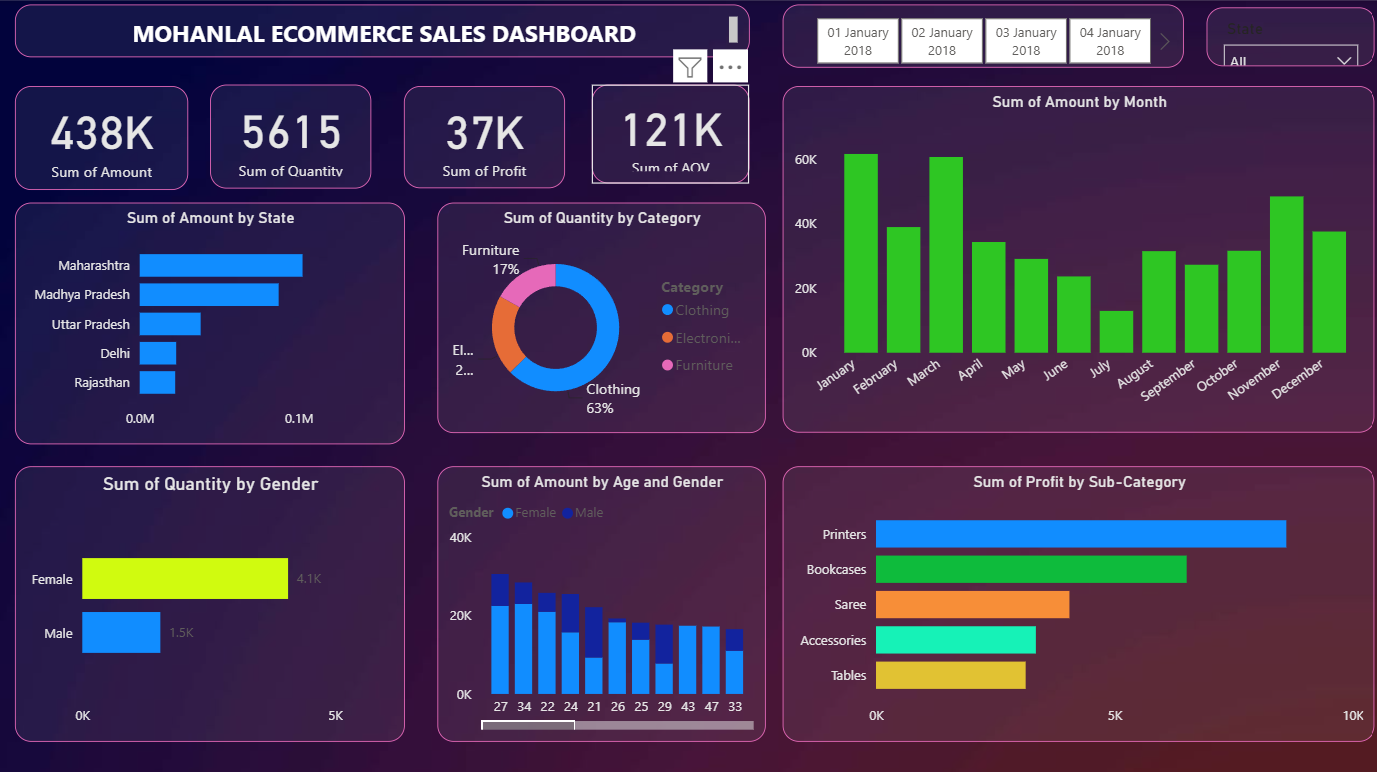

Layout of this report page (visuals, bound fields, positions):
{"tool":"powerbi","page":{"name":"Page 1","canvas":[1280,720],"ordinal":0},"visuals":[{"type":"textbox","box":[15.7,4.3,678.6,48.6],"z":0},{"type":"columnChart","fields":{"Y":["Sum(Details.Amount)"],"Category":["Orders.Order Date.Variation.Date Hierarchy.Month1"]},"box":[724.3,80,547.1,320],"z":1000},{"type":"barChart","fields":{"Category":["Details.Sub-Category"],"Y":["Sum(Details.Profit)"]},"box":[724.3,430,547.1,254.3],"z":2000},{"type":"donutChart","fields":{"Category":["Details.Category"],"Y":["Sum(Details.Quantity)"]},"box":[405.7,187.1,302.9,212.9],"z":3000},{"type":"card","fields":{"Values":["Sum(Details.Amount)"]},"box":[15.7,80,160,95.7],"z":5000},{"type":"card","fields":{"Values":["Sum(Details.Quantity)"]},"box":[195.7,78.6,148.6,95.7],"z":6000},{"type":"card","fields":{"Values":["Sum(Details.Profit)"]},"box":[375.7,80,148.6,94.3],"z":7000},{"type":"card","fields":{"Values":["Sum(Details.AOV)"]},"box":[548.6,78.6,145.7,91.4],"z":8000},{"type":"barChart","fields":{"Category":["Orders.State"],"Y":["Sum(Details.Amount)"]},"box":[15.7,187.1,360,222.9],"z":9000},{"type":"slicer","fields":{"Values":["Orders.Order Date.Variation.Date Hierarchy.Quarter"]},"box":[724.3,4.3,370,58.6],"z":10000},{"type":"slicer","fields":{"Values":["Orders.State"]},"box":[1115.7,7.1,155.7,54.3],"z":11000},{"type":"clusteredBarChart","fields":{"Y":["Sum(Details.Quantity)"],"Category":["Orders.Gender"]},"box":[16,430,360,254],"z":12000},{"type":"columnChart","fields":{"Category":["Orders.Age"],"Y":["Sum(Details.Amount)"],"Series":["Orders.Gender"]},"box":[406,430,303,254],"z":12001}]}

Visuals, with their boxes in screenshot pixels (x1, y1, x2, y2), scaled from the page's 1280x720 canvas onto the 1377x772 screenshot:
textbox: box(17, 5, 747, 57)
columnChart - Sum(Details.Amount) x Orders.Order Date.Variation.Date Hierarchy.Month1: box(779, 86, 1368, 429)
barChart - Details.Sub-Category x Sum(Details.Profit): box(779, 461, 1368, 734)
donutChart - Details.Category x Sum(Details.Quantity): box(436, 201, 762, 429)
card - Sum(Details.Amount): box(17, 86, 189, 188)
card - Sum(Details.Quantity): box(211, 84, 370, 187)
card - Sum(Details.Profit): box(404, 86, 564, 187)
card - Sum(Details.AOV): box(590, 84, 747, 182)
barChart - Orders.State x Sum(Details.Amount): box(17, 201, 404, 440)
slicer - Orders.Order Date.Variation.Date Hierarchy.Quarter: box(779, 5, 1177, 67)
slicer - Orders.State: box(1200, 8, 1368, 66)
clusteredBarChart - Sum(Details.Quantity) x Orders.Gender: box(17, 461, 404, 733)
columnChart - Orders.Age x Sum(Details.Amount): box(437, 461, 763, 733)
